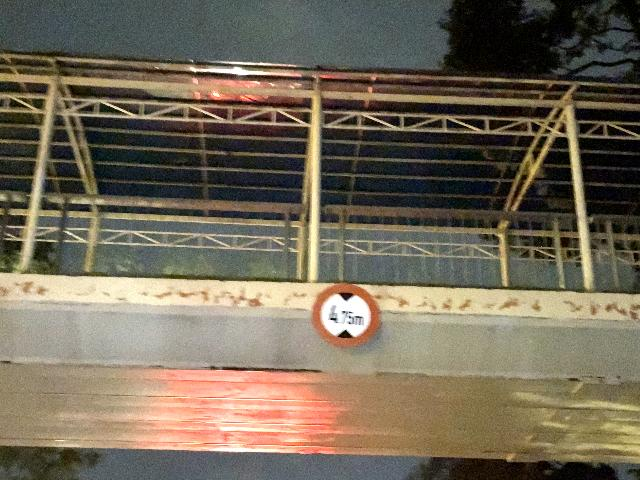han-che-chieu-cao: (311, 280, 380, 349)
